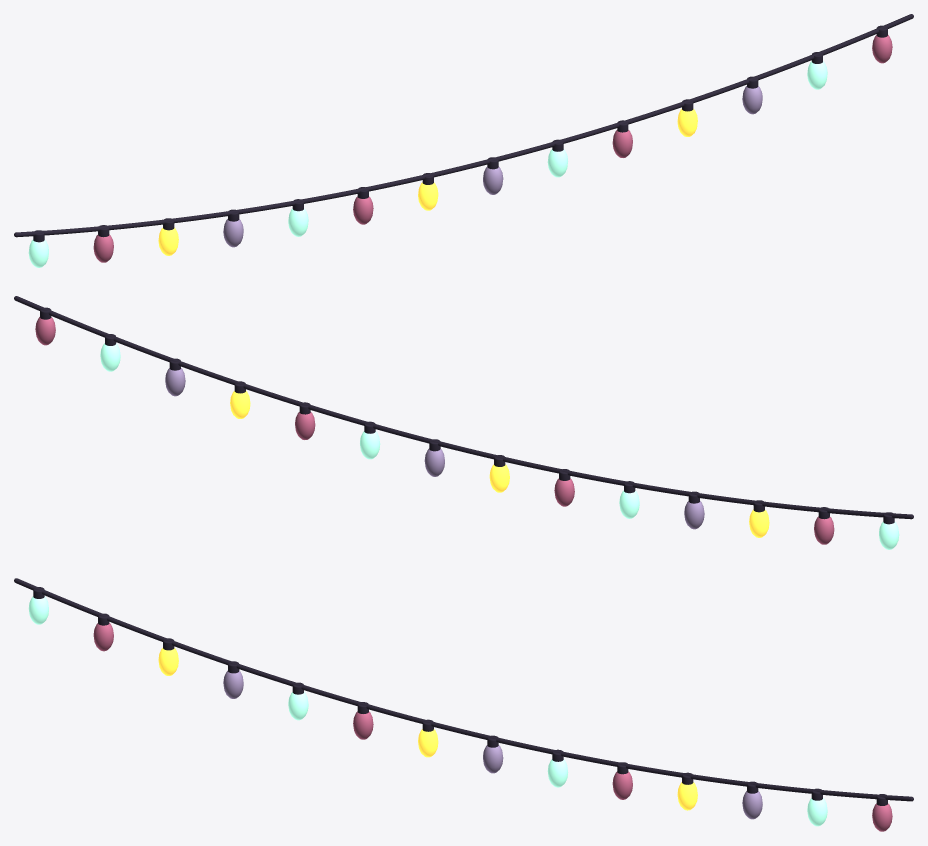
The model's file is garland.glb.
3 views of the same model, one above another, from view 1: azimuth 30°, elevation 25°; view 2: azimuth 150°, elevation 25°; view 3: azimuth 330°, elevation 25° (orthographic).
Parts seen in each view (by area): view 1: Cable; view 2: Cable; view 3: Cable.
Boxes of the visible parts, box(x1,y1,x2,y2) form: Cable: box(14, 14, 913, 237); Cable: box(14, 296, 913, 519); Cable: box(14, 578, 913, 801).
Bounding box in the file's own units: 4.02 × 0.3341 × 0.08.
